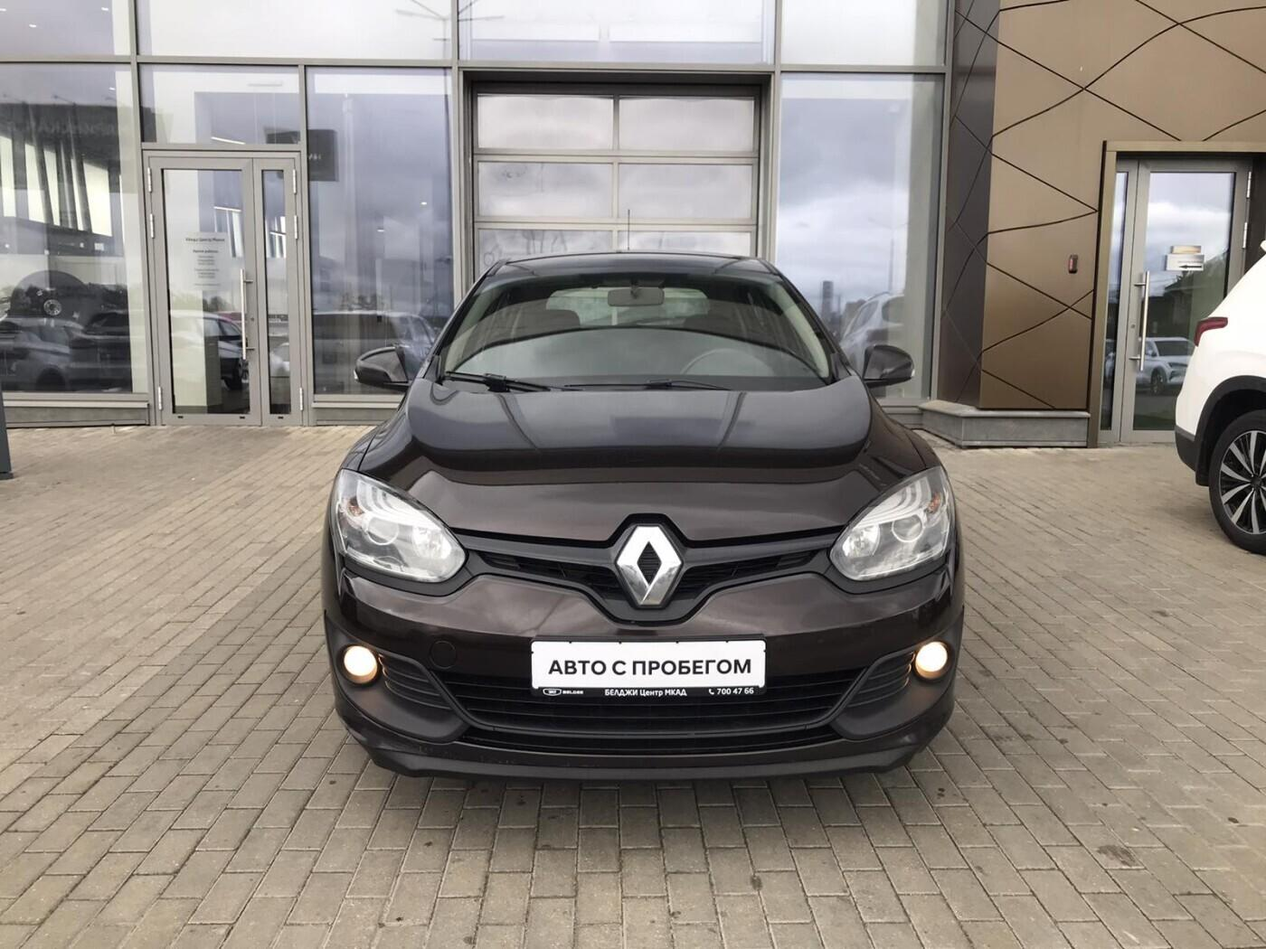Megane_2012-2014: (323, 250, 966, 775)
